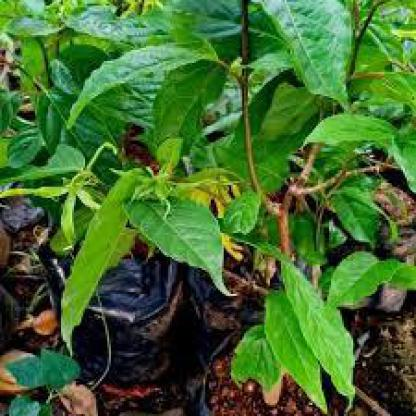Kenanga: (27, 153, 108, 221)
